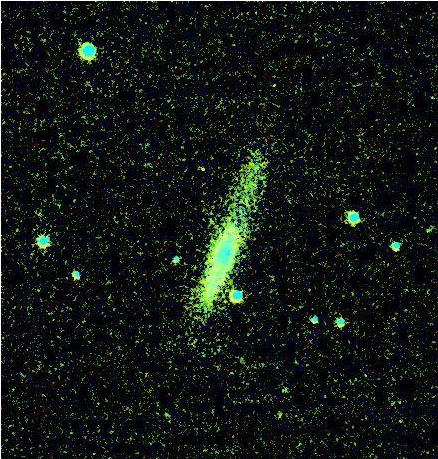star: (153, 401, 183, 431)
